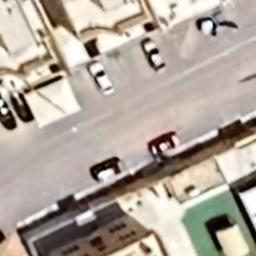sedan: (137, 37, 170, 75), (7, 90, 40, 124), (86, 62, 116, 98), (147, 132, 182, 158), (0, 98, 22, 132)
van: (87, 155, 129, 182)
